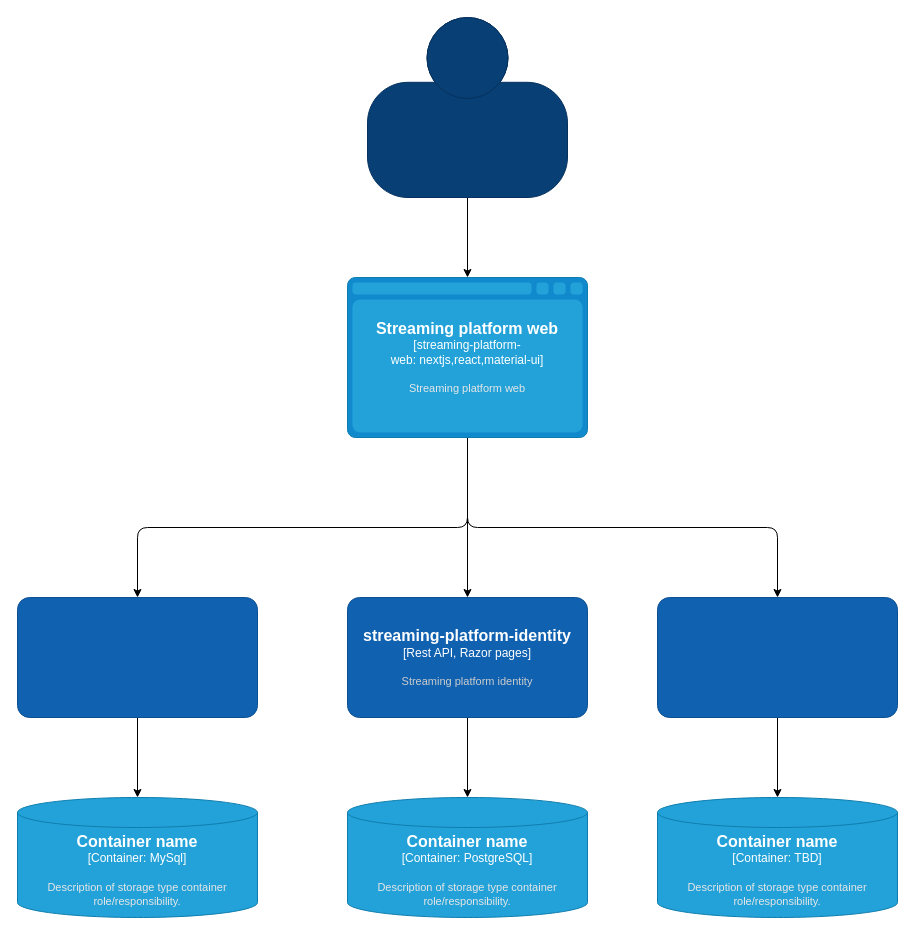
This 915x935 diagram has some shape labels left out. The shapes that lost their labels are listed below. From the top down, each one's box as (x1, y1, x2, y2) in pixels, then its label:
(366, 16, 568, 198): Person name [Person] Description of person.
(16, 596, 258, 718): streaming-platform [Rest API] Streaming platform server
(656, 596, 898, 718): streaming-platform-chat [TBD] Streaming platform chat
